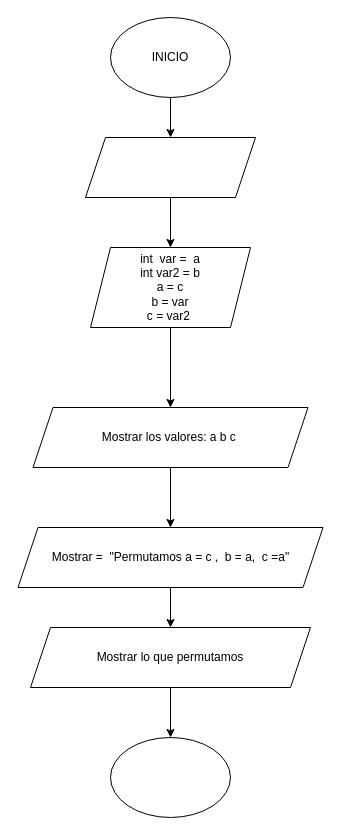
The diagram is 340 pixels wide and 835 high, and some of its shapes have lost their labels. The centre of each missing label's shape, as x and y in pixels:
"Entrada: int a, int b, int c" belongs at point (170, 167).
"FIN" belongs at point (170, 777).
